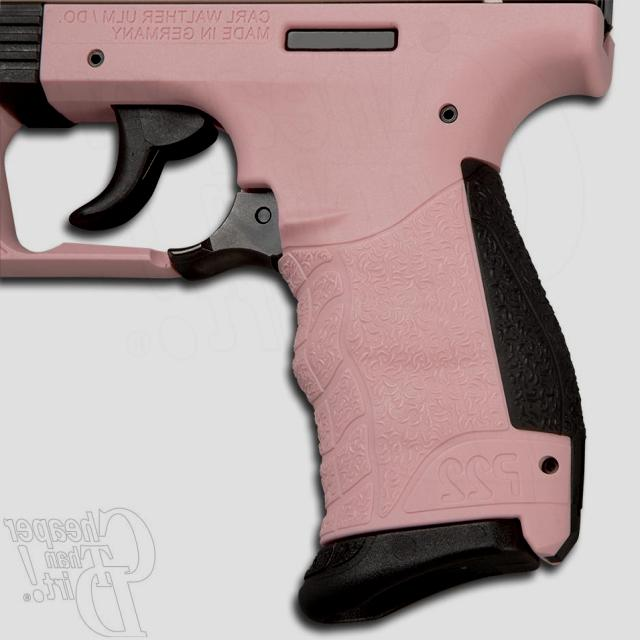pistol: (2, 2, 620, 618)
